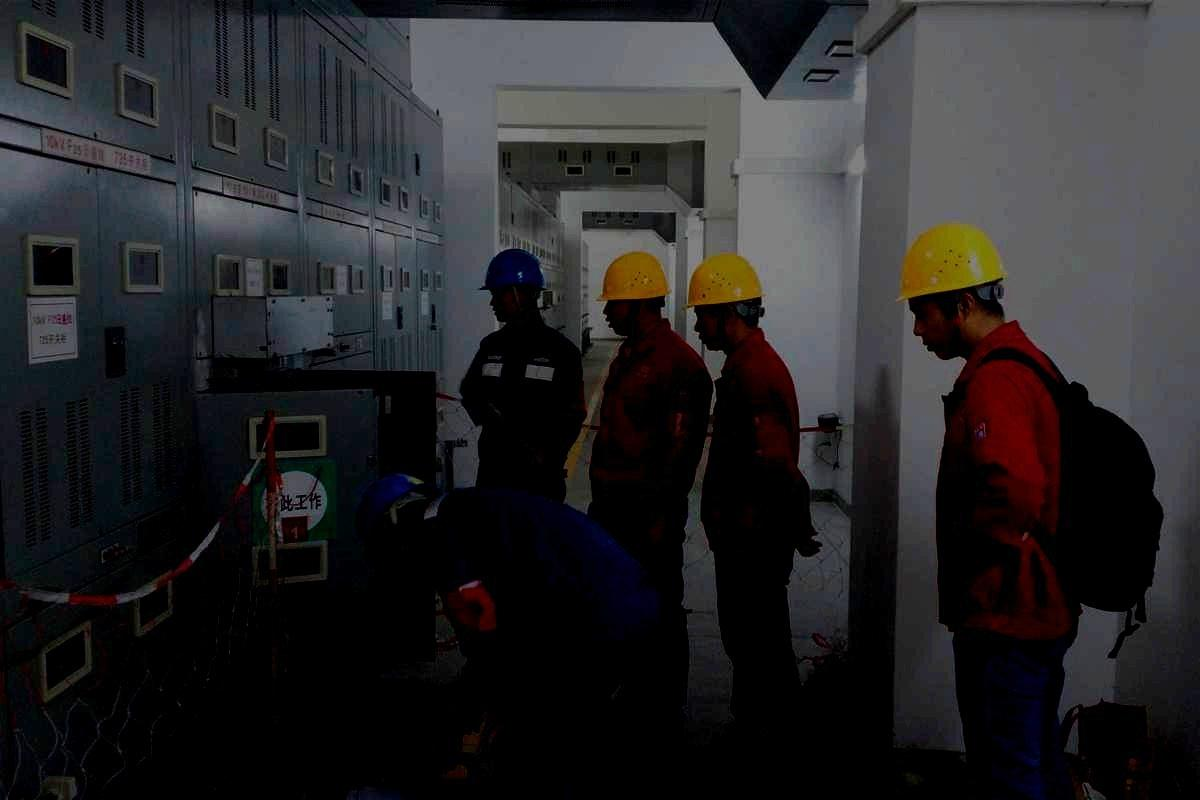helmet: (894, 219, 1010, 360), (681, 250, 767, 353), (595, 250, 673, 336), (476, 248, 547, 322), (370, 472, 432, 532)
